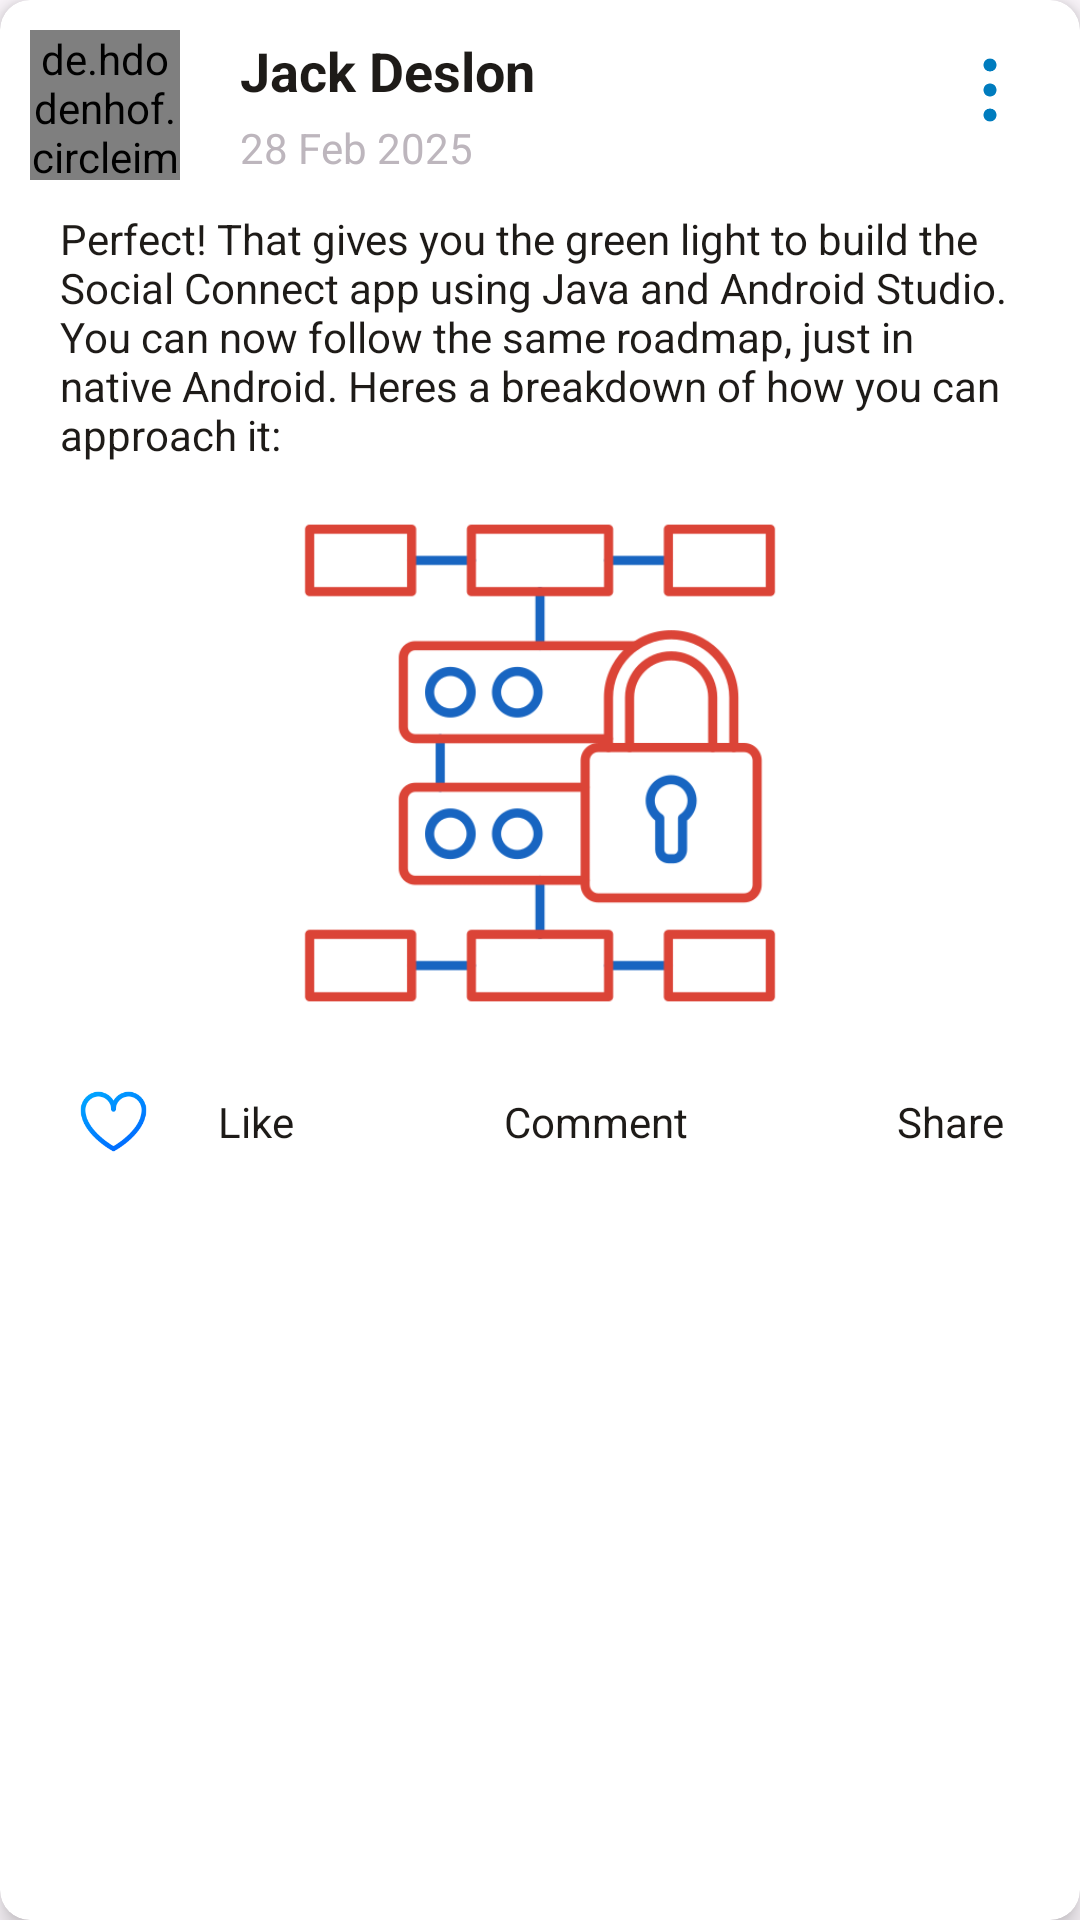

Where icons sit on this 1080 x 1920 app screen, as (x1, y1, x2, y2):
options: (983, 58, 997, 122)
